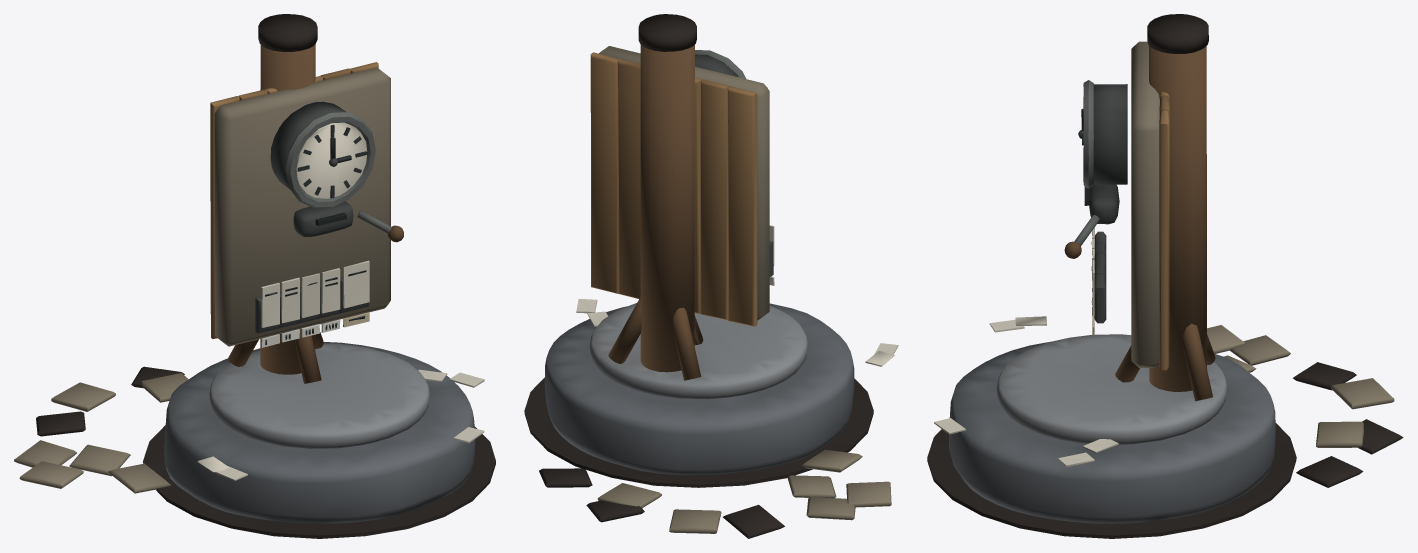
The model's file is clock_post_b_lod1.glb.
3 views of the same model, side by side, from view 1: azimuth 30°, elevation 25°; view 2: azimuth 150°, elevation 25°; view 3: azimuth 270°, elevation 25° (orthographic). The views are drawn at different scales.
Visible parts, largest first — view 1: Surface.001; view 2: Surface.001; view 3: Surface.001.
Part boxes in pixels (bbox=[...]): Surface.001: bbox=[14, 14, 495, 538]; Surface.001: bbox=[524, 14, 898, 538]; Surface.001: bbox=[927, 14, 1403, 538].
Bounding box in the file's own units: 2.49 × 2.48 × 2.45.
